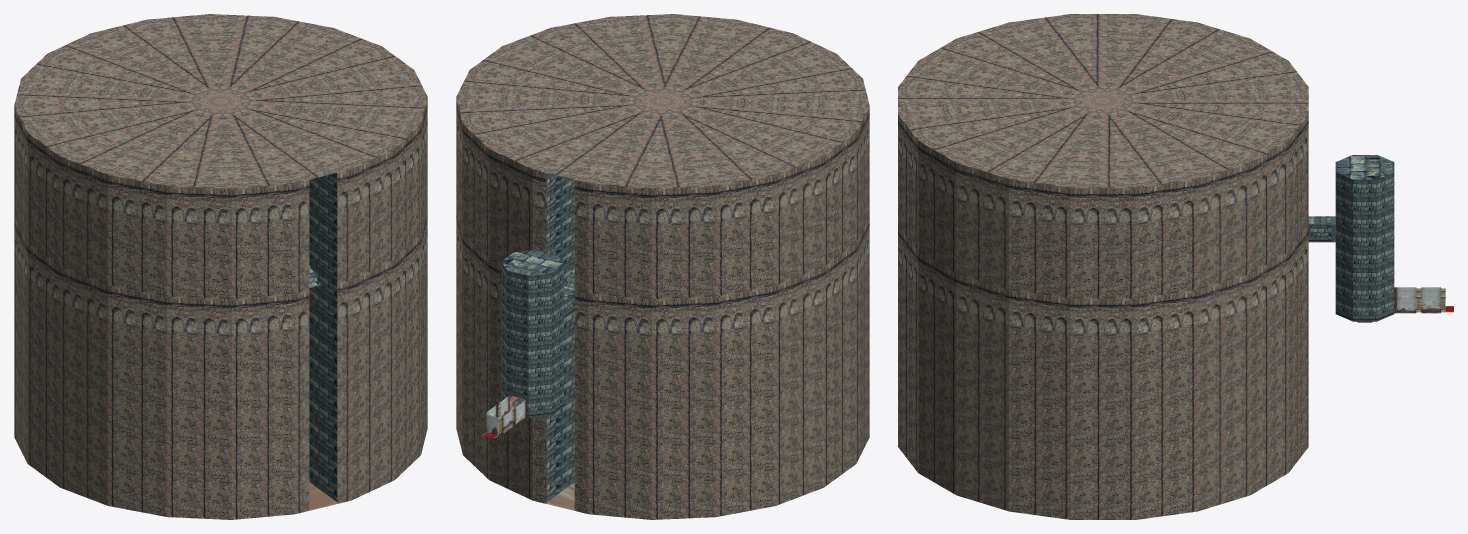
Rendered from Terror_hall4.obj.
3 views of the same model, side by side, from view 1: azimuth 30°, elevation 25°; view 2: azimuth 150°, elevation 25°; view 3: azimuth 270°, elevation 25° (orthographic).
Parts seen in each view (by area): view 1: obj1; view 2: obj1; view 3: obj1.
Boxes of the visible parts, bbox=[...] form: obj1: bbox=[14, 14, 427, 519]; obj1: bbox=[456, 14, 869, 519]; obj1: bbox=[898, 14, 1453, 519].
Bounding box in the file's own units: 1679 × 1500 × 2273.
